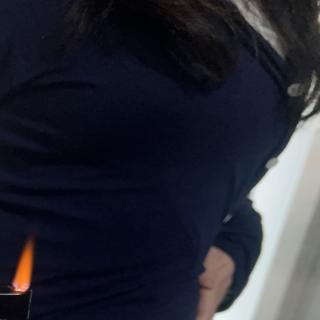fire: (12, 236, 34, 294)
